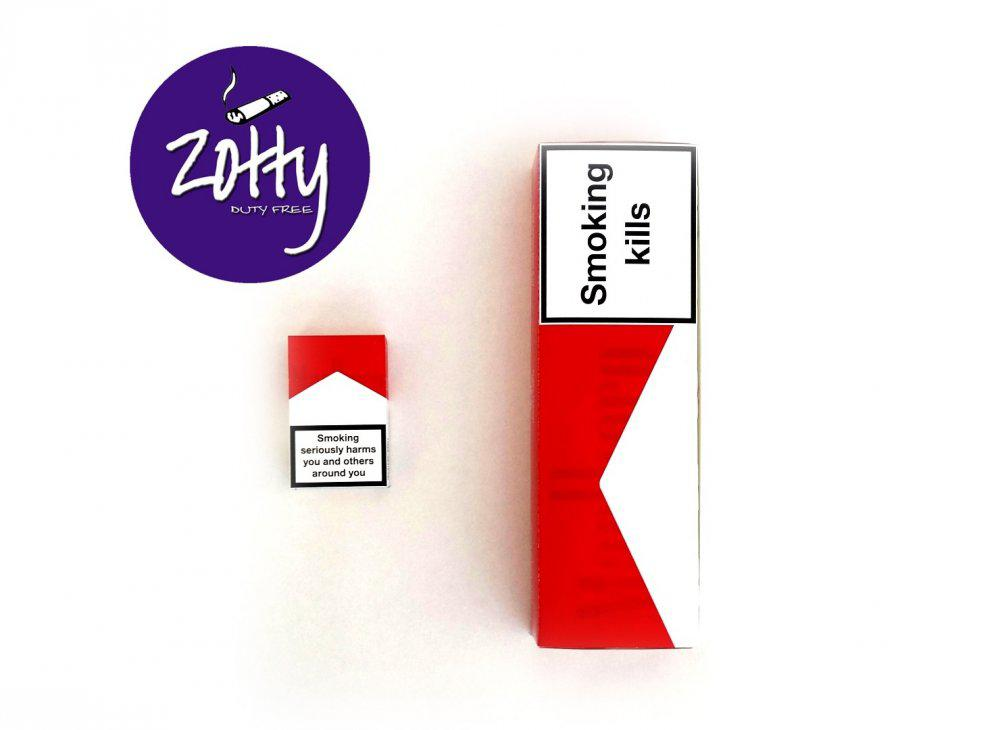marlboro_red: (291, 336, 389, 485)
